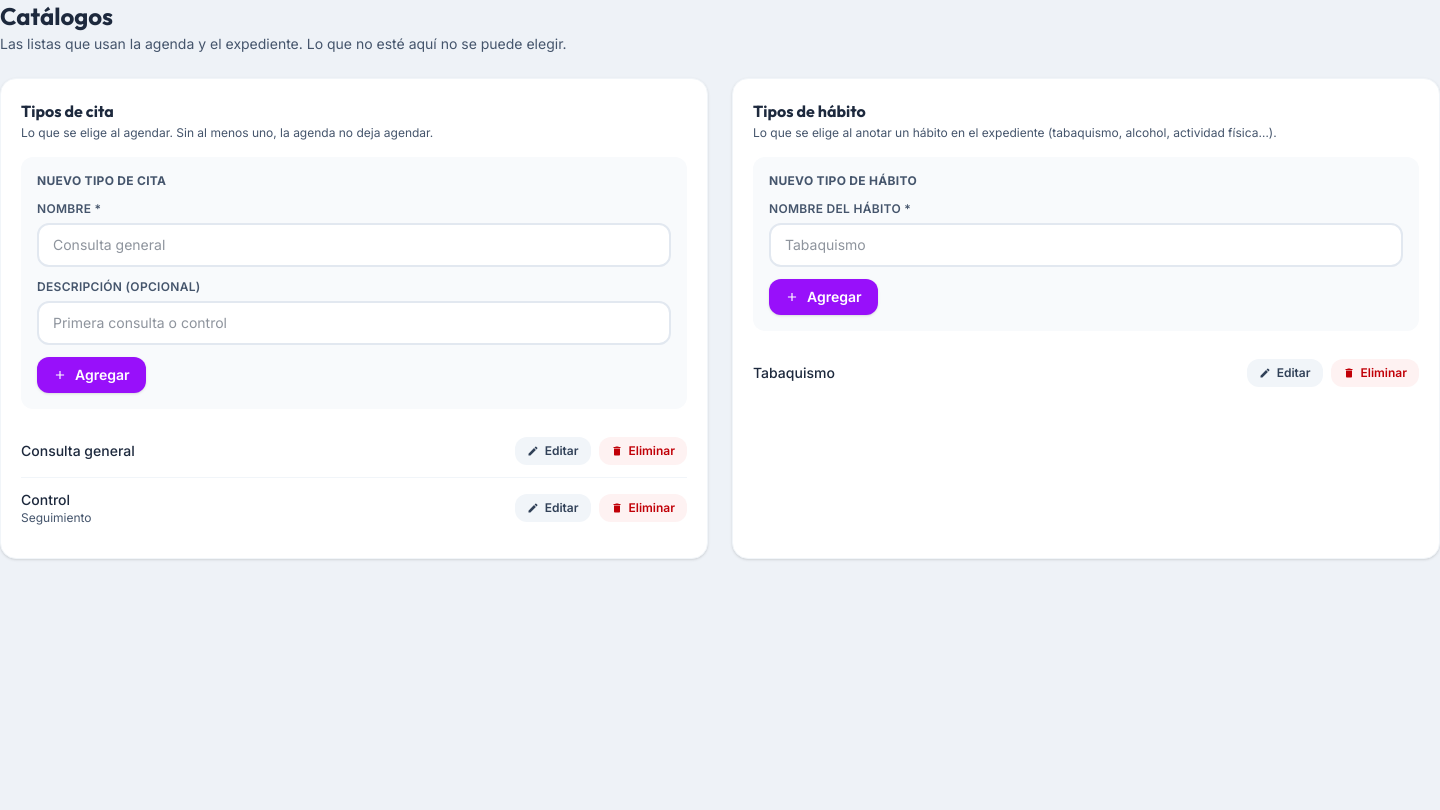
catálogos · editar y eliminar › si el tipo está en uso, muestra el mensaje del backend y lo deja en la lista
Expected: the list named "Tipos de cita" is shown, [21,425,687,538]
Expected: the list named "Tipos de hábito" is shown, [753,359,1419,387]
Step 1. Click the button with aria-label "Eliminar Tabaquismo" → (1375, 373), box [1330,359,1419,387]
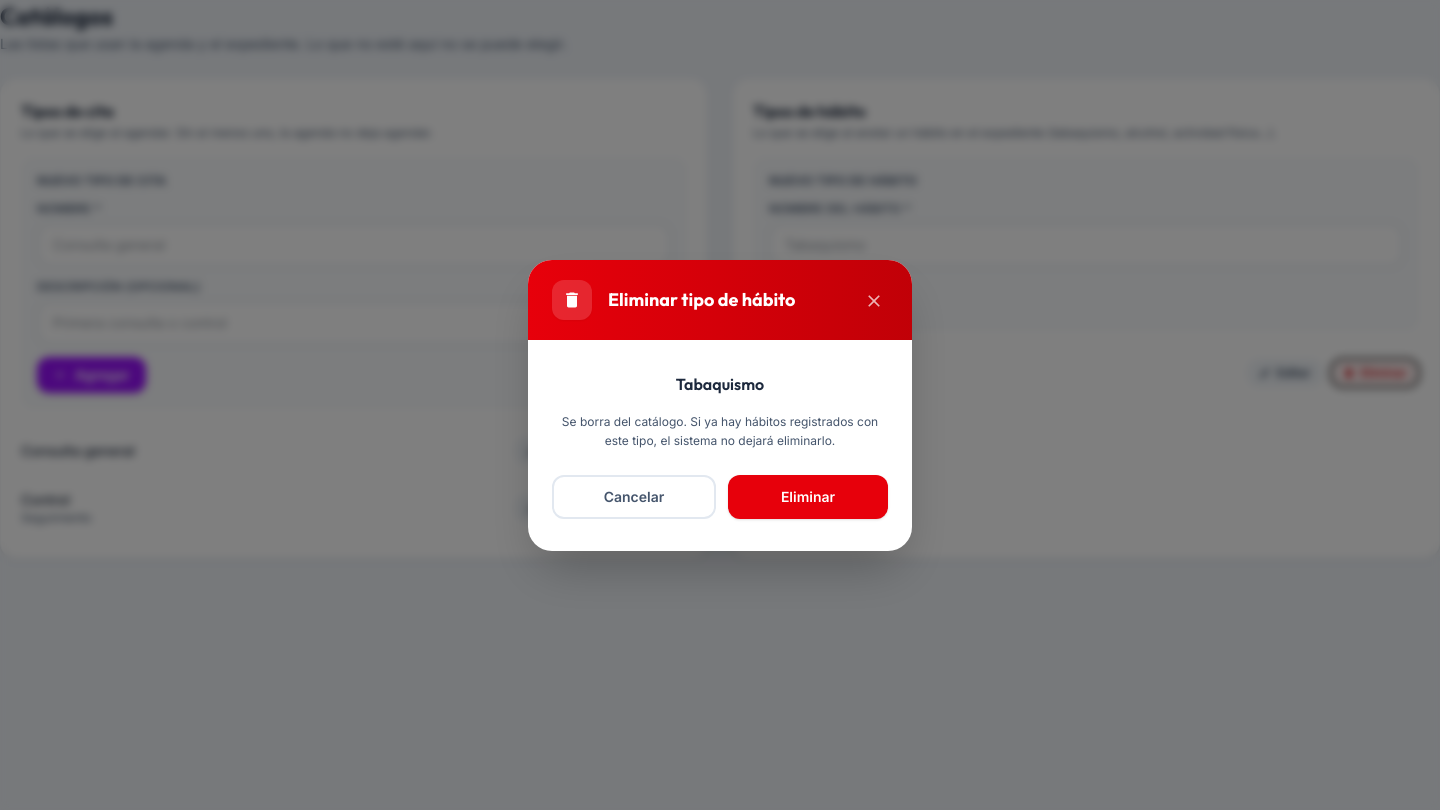
Step 2. Click the button "Eliminar" → (808, 496), box [728,474,888,518]
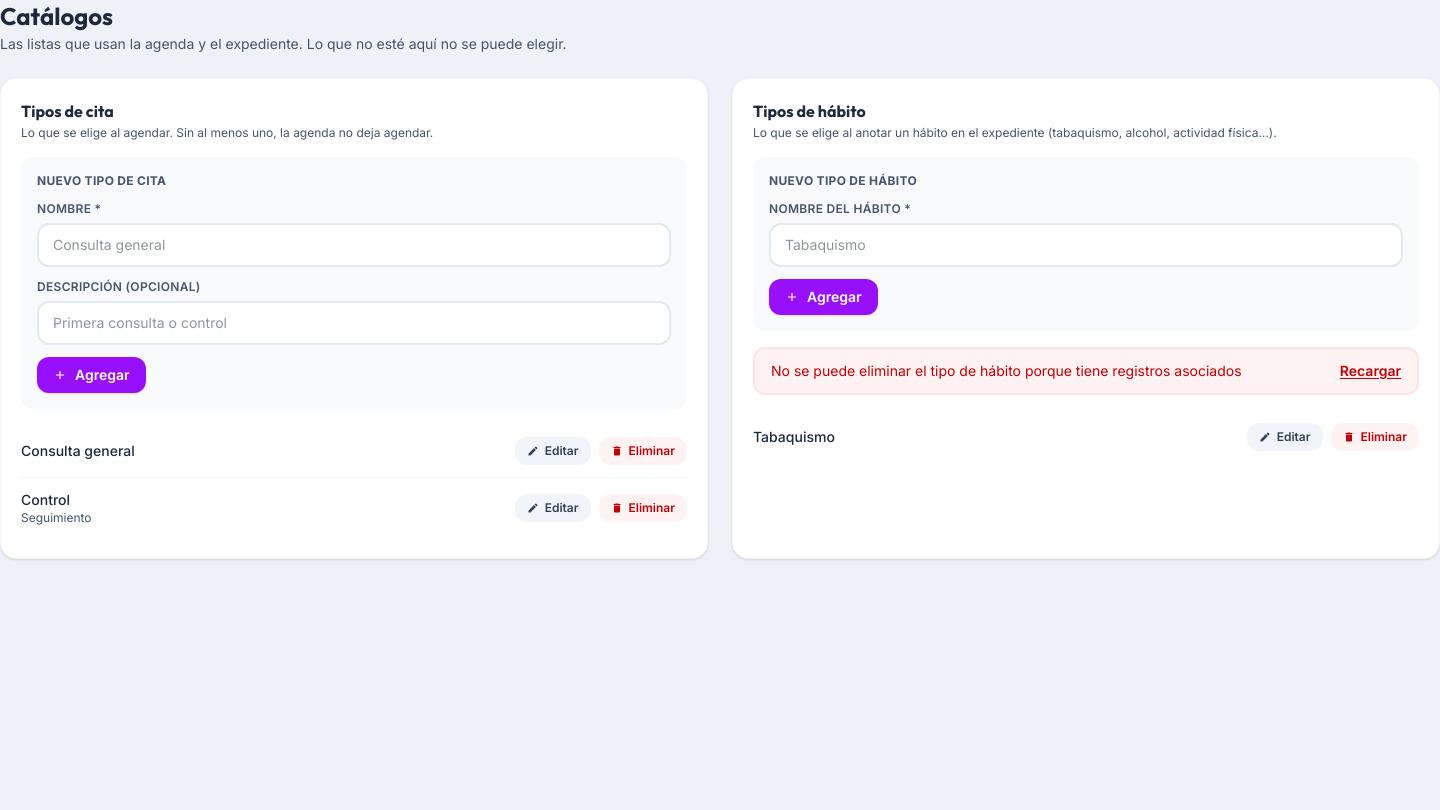
Expected: the text "Tabaquismo" is shown, [753,427,835,447]
Now the message shows "No se puede eliminar el tipo de hábito porque tiene registros asociados", box [771,362,1242,379]
